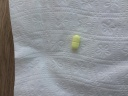Aferin: (71, 35, 81, 50)
